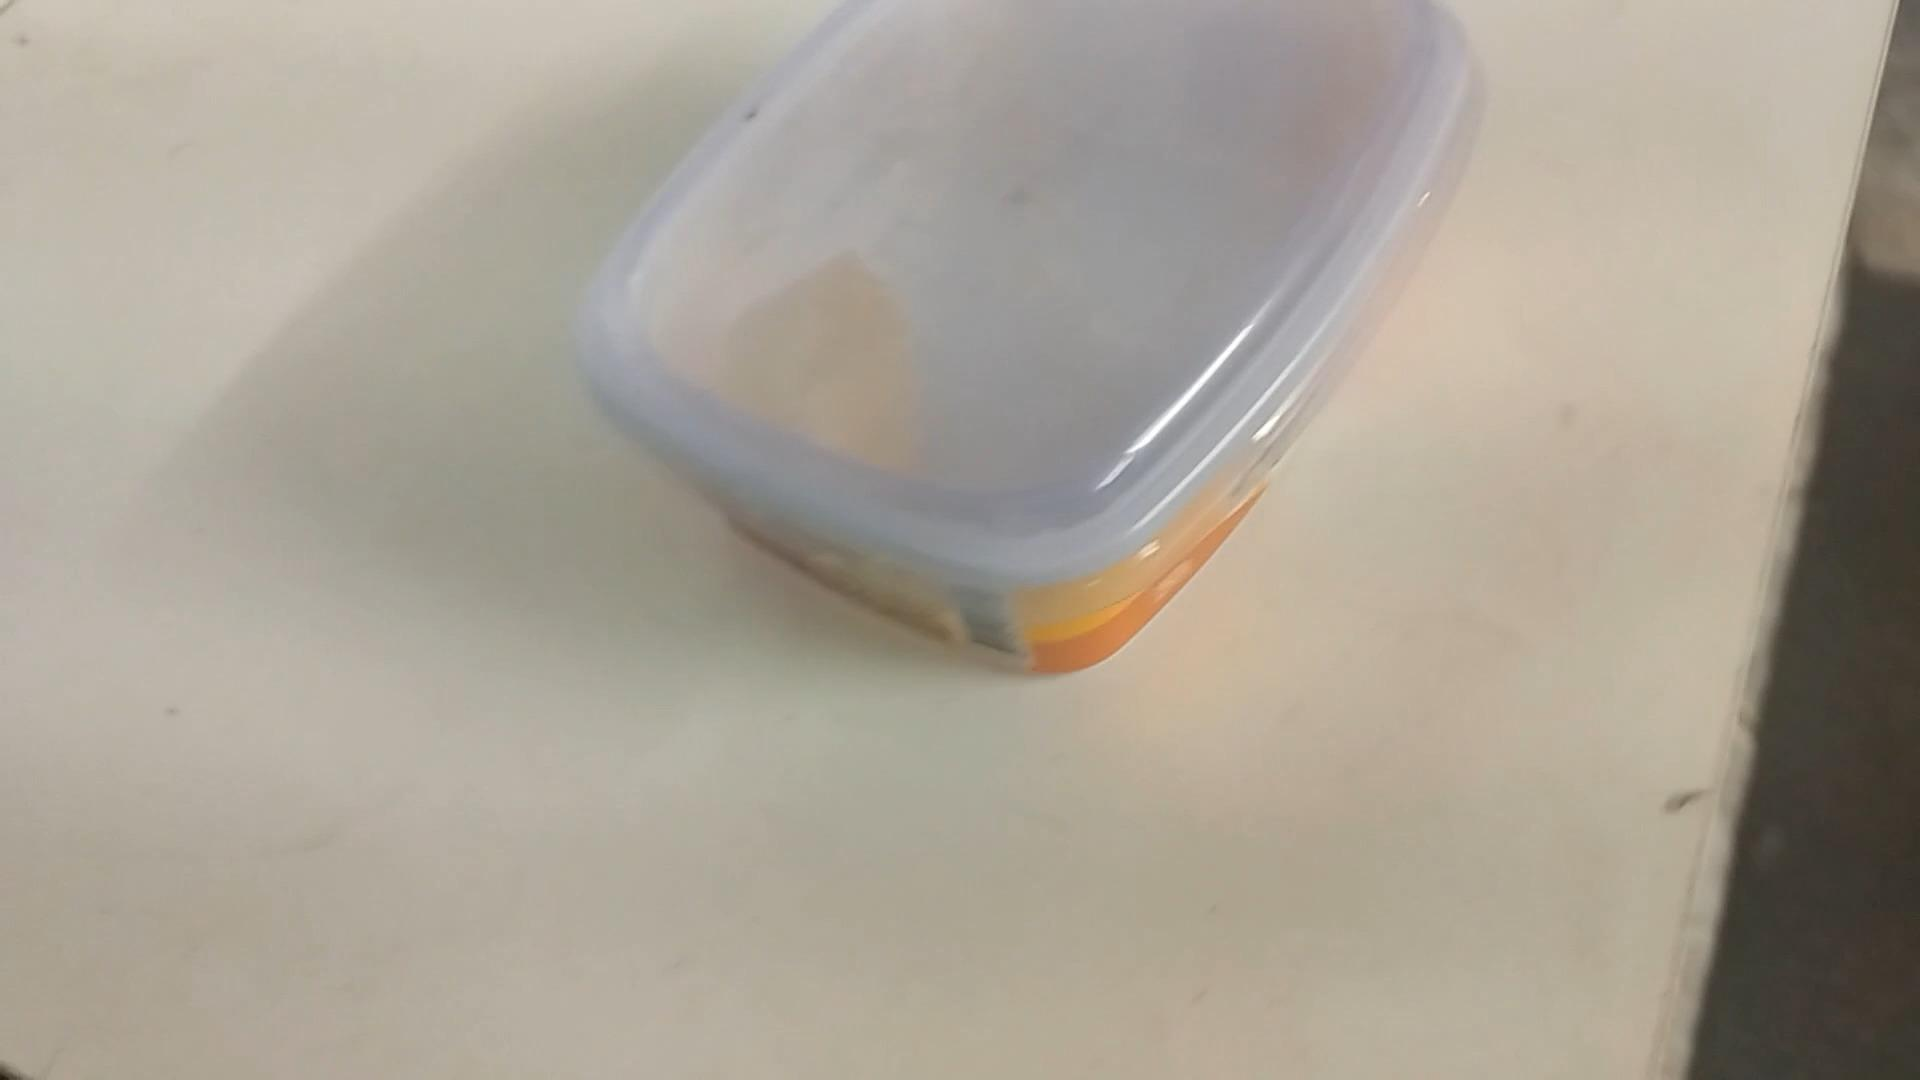butter: (570, 8, 1470, 676)
